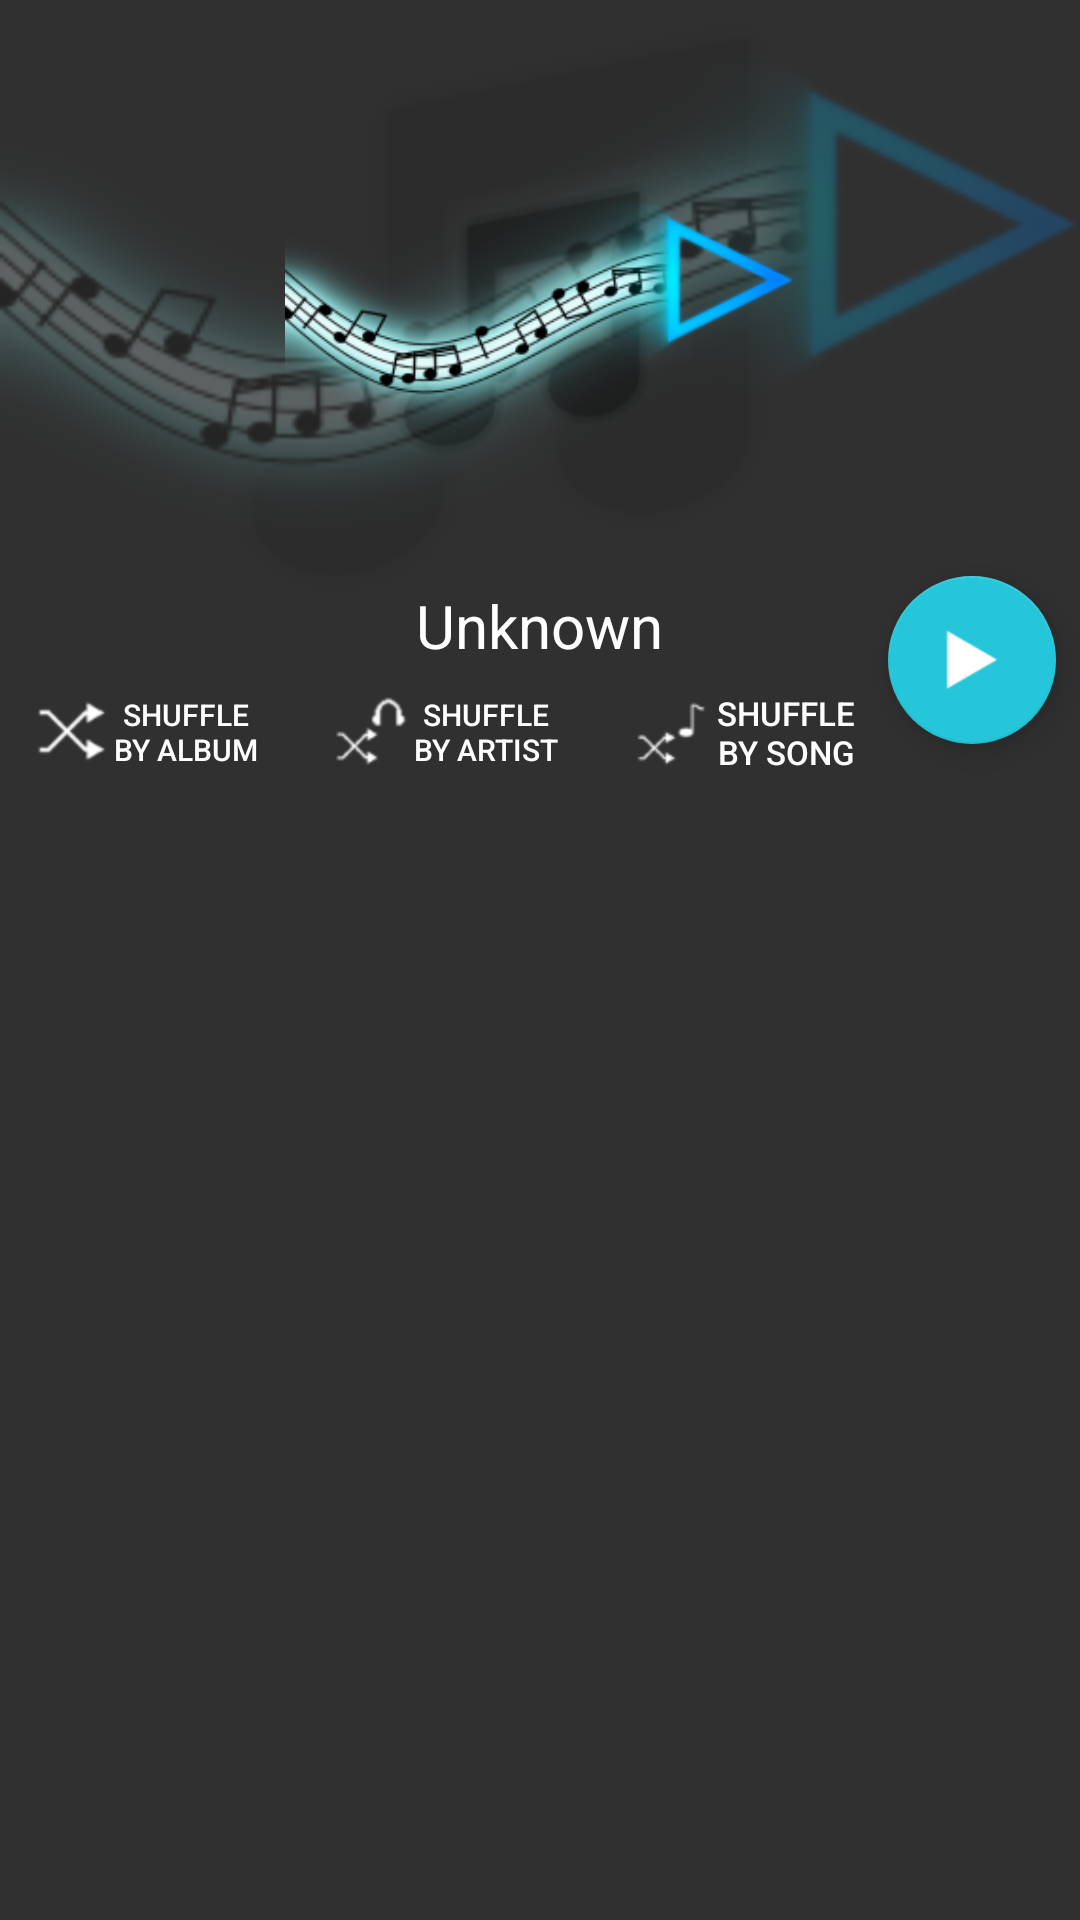

Point at icon controls on the screen. Image size 1080px x 1920px, points as (x=x, y=y).
play: (x=972, y=660)
